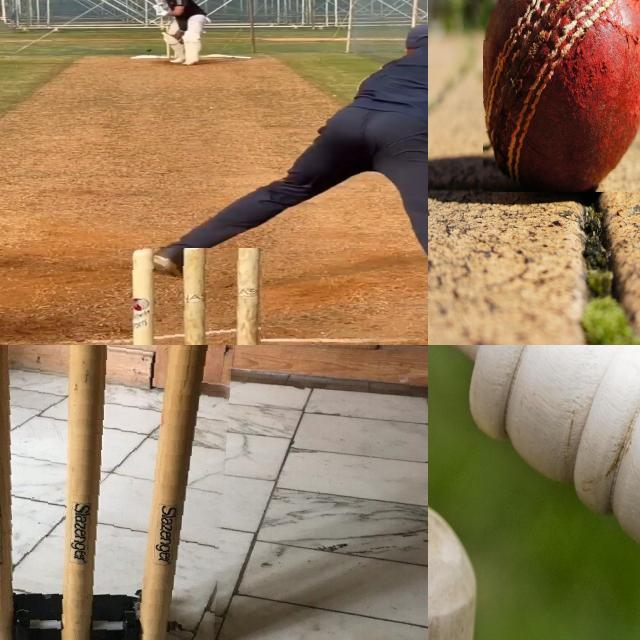Cricket ball: (483, 0, 640, 191), (146, 48, 152, 52)
Stumps: (0, 345, 243, 640), (126, 248, 263, 345)
